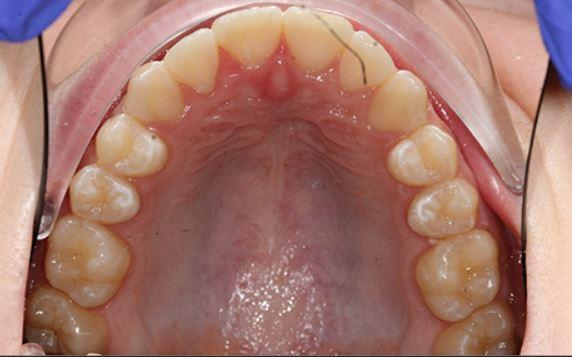1st Molar: (414, 230, 500, 324), (43, 217, 131, 308)
1st Premolar: (95, 116, 168, 178), (388, 125, 458, 186)
2nd Molar: (27, 290, 108, 354), (434, 305, 518, 357)
2nd Premolar: (406, 180, 482, 240), (69, 164, 140, 227)
Canine: (369, 70, 429, 134), (127, 59, 183, 124)
Central Incisor: (285, 5, 351, 72), (214, 6, 284, 67)
Lateral Incisor: (341, 30, 396, 94), (167, 28, 220, 94)
